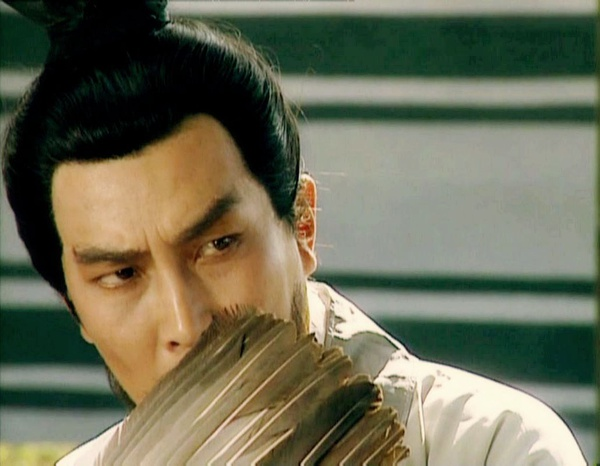face: (52, 135, 295, 428)
